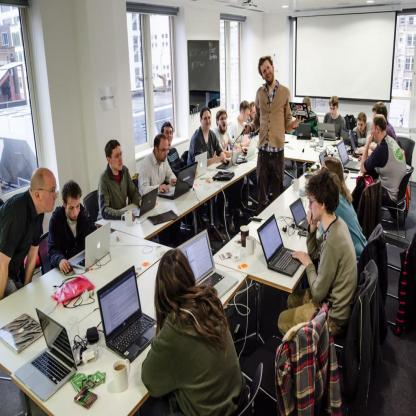board: (98, 265, 162, 361), (15, 309, 78, 403), (177, 229, 238, 299), (256, 214, 302, 276), (70, 225, 110, 270), (0, 314, 43, 354), (158, 163, 198, 198), (132, 188, 158, 218), (337, 139, 360, 169), (290, 198, 307, 230), (216, 151, 241, 169), (240, 137, 258, 158), (194, 150, 207, 178), (349, 130, 361, 157), (318, 122, 334, 140), (296, 125, 312, 139), (241, 224, 249, 247), (319, 150, 327, 165)
